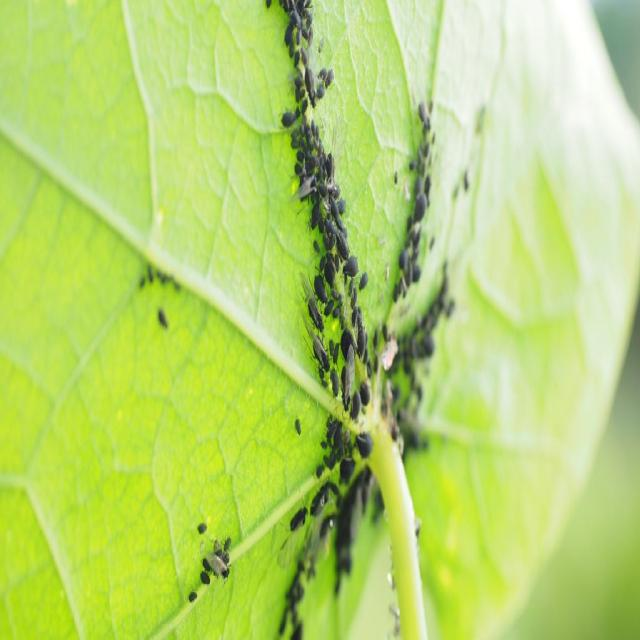Aphid-Grouped-: (281, 9, 364, 403), (401, 90, 436, 292)
